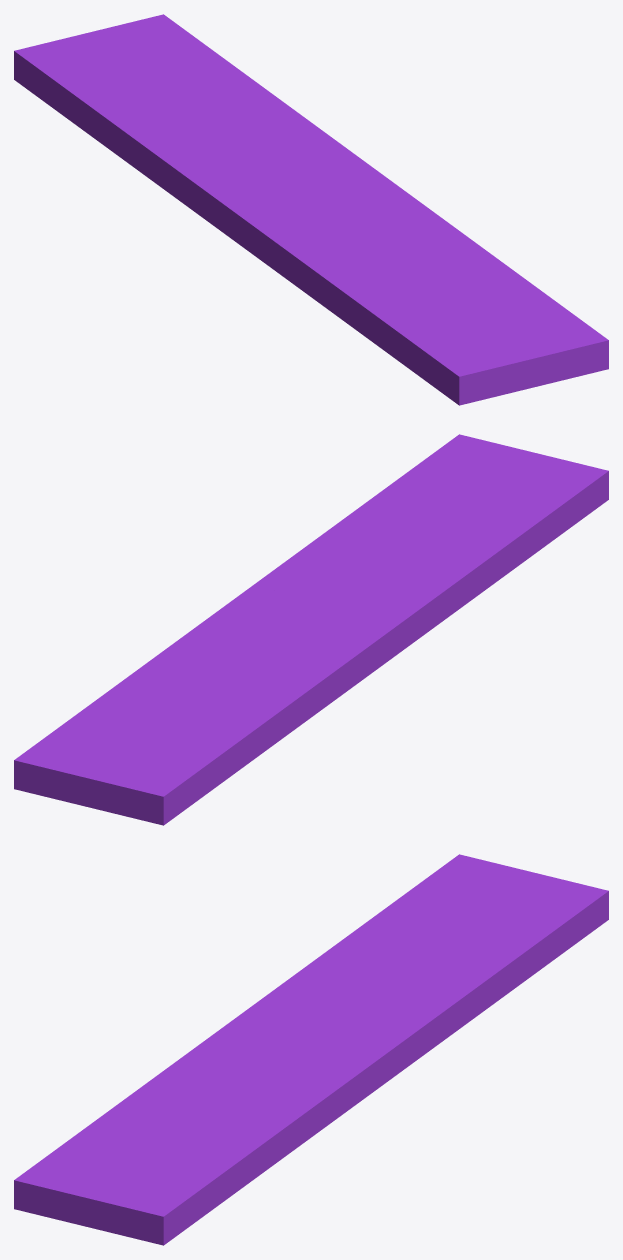
File: StairsStep_138_chunks.fbx
The picture shows the model from 3 angles, top to bottom: view 1: azimuth 30°, elevation 25°; view 2: azimuth 150°, elevation 25°; view 3: azimuth 330°, elevation 25°; orthographic projection.
Visible parts, largest first — view 1: StairsStep_138_2, StairsStep_138_1, StairsStep_138_0, StairsStep_138_3; view 2: StairsStep_138_2, StairsStep_138_1, StairsStep_138_0, StairsStep_138_3; view 3: StairsStep_138_2, StairsStep_138_1, StairsStep_138_0, StairsStep_138_3.
Part boxes in pixels (<box>): StairsStep_138_2: <box>280,192,608,405</box>; StairsStep_138_1: <box>14,14,348,179</box>; StairsStep_138_0: <box>114,124,311,274</box>; StairsStep_138_3: <box>279,150,405,202</box>; StairsStep_138_2: <box>257,434,608,629</box>; StairsStep_138_1: <box>14,625,294,825</box>; StairsStep_138_0: <box>263,597,436,734</box>; StairsStep_138_3: <box>199,583,325,635</box>; StairsStep_138_2: <box>14,1039,380,1245</box>; StairsStep_138_1: <box>328,854,608,1086</box>; StairsStep_138_0: <box>187,927,359,1053</box>; StairsStep_138_3: <box>297,1015,423,1081</box>.
Size of the model in its own units: 157 by 28.98 by 810.
